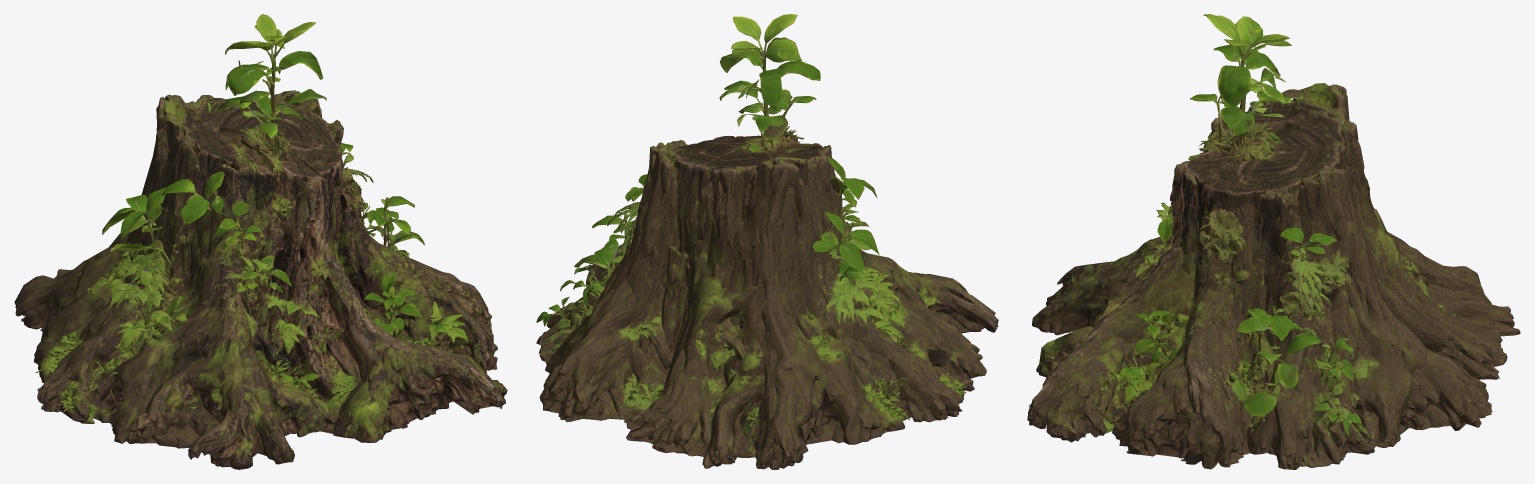
File: rainforest-stump.glb
The picture shows the model from 3 angles, left to right: view 1: azimuth 30°, elevation 25°; view 2: azimuth 150°, elevation 25°; view 3: azimuth 270°, elevation 25°; orthographic projection. The views are drawn at different scales.
Parts seen in each view (by area): view 1: output_unwrapped; view 2: output_unwrapped; view 3: output_unwrapped.
Part boxes in pixels (<box>): output_unwrapped: <box>14,14,507,469</box>; output_unwrapped: <box>536,14,998,469</box>; output_unwrapped: <box>1027,14,1520,469</box>.
Size of the model in its own units: 1.89 by 1.49 by 1.9.
1 material, 1 textured.
